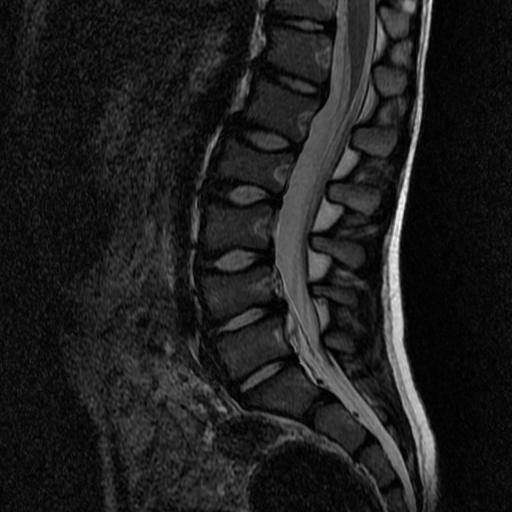D1: (226, 112, 303, 156)
